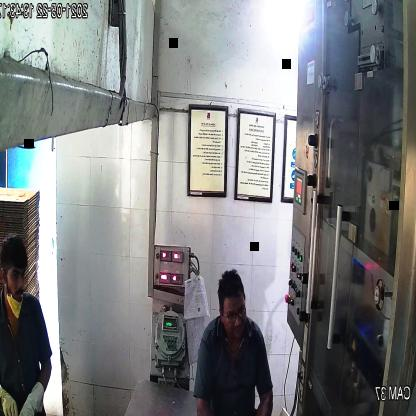goggles: (221, 299, 251, 326)
no_goggles: (5, 263, 28, 284)
